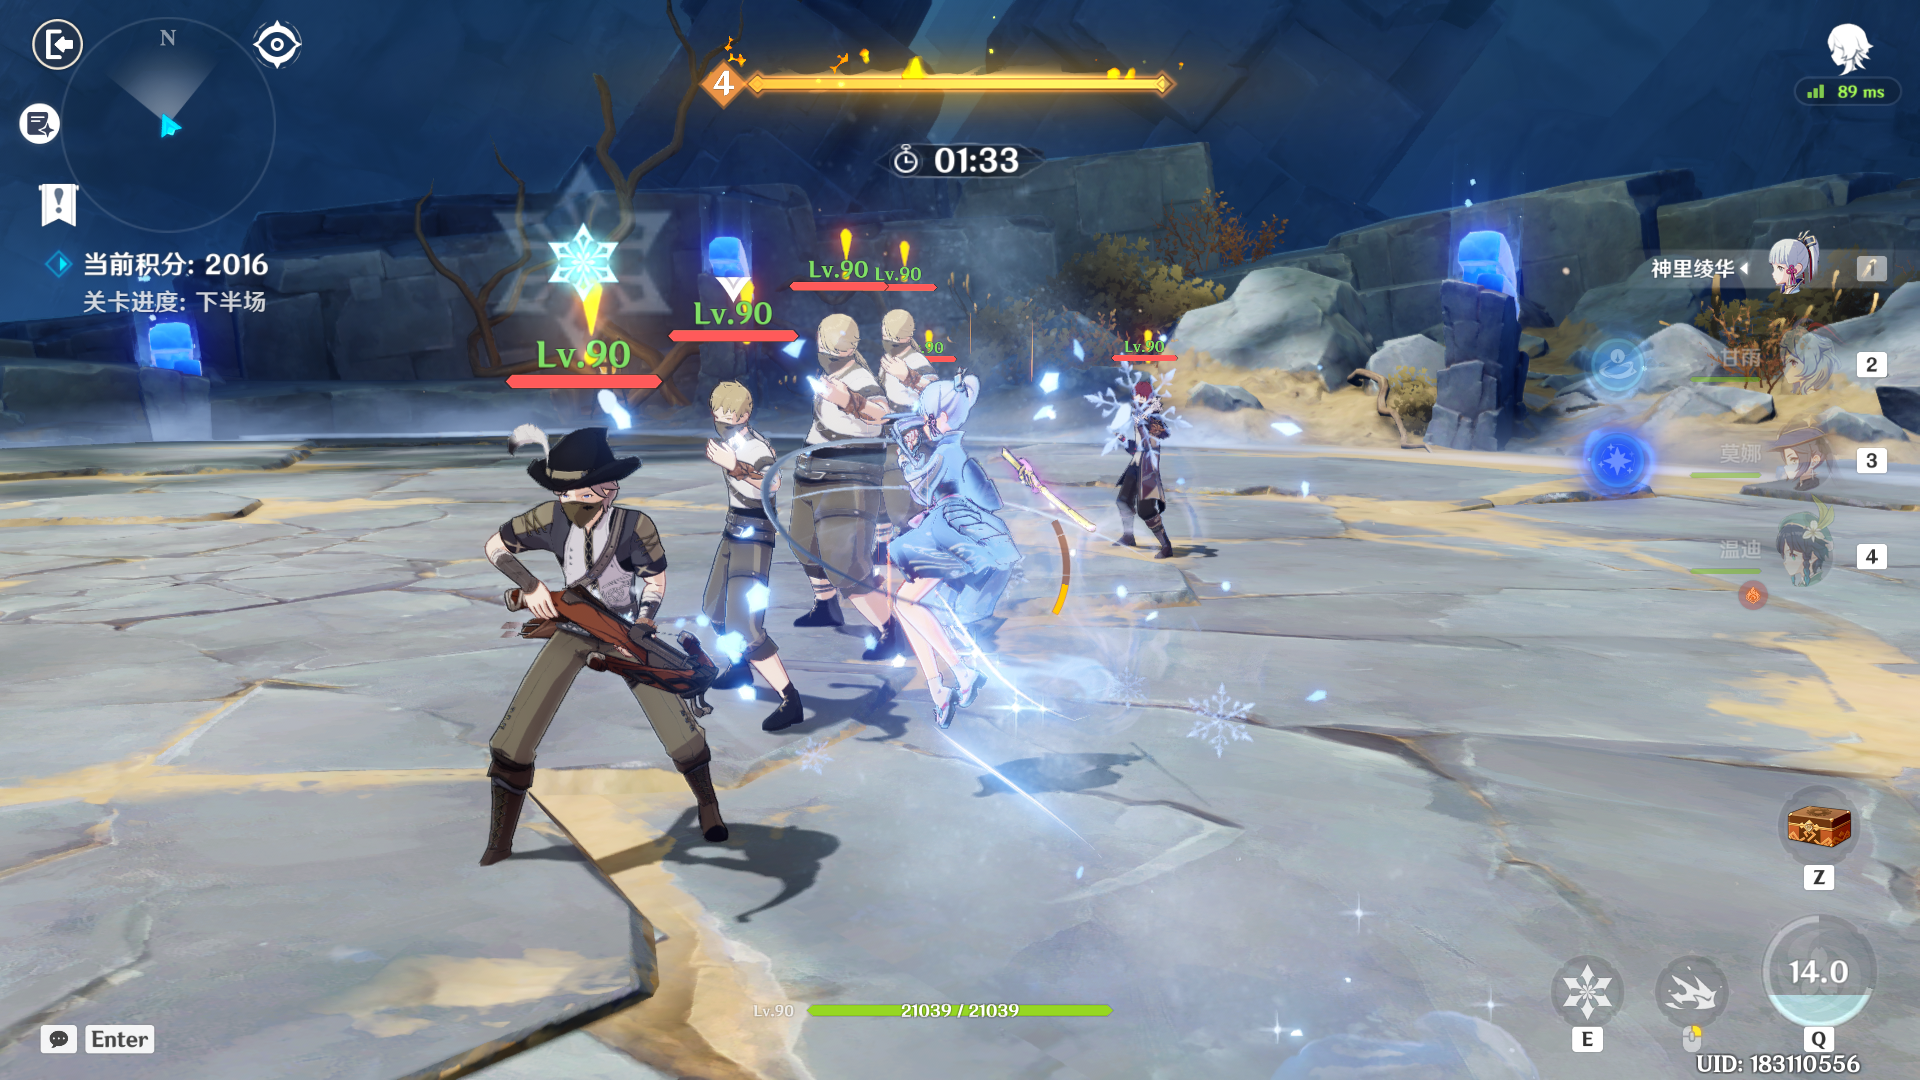character: (869, 342, 1087, 767)
robber: (436, 419, 787, 874), (670, 364, 843, 752), (770, 303, 927, 659), (1084, 324, 1209, 616), (857, 295, 969, 430)
